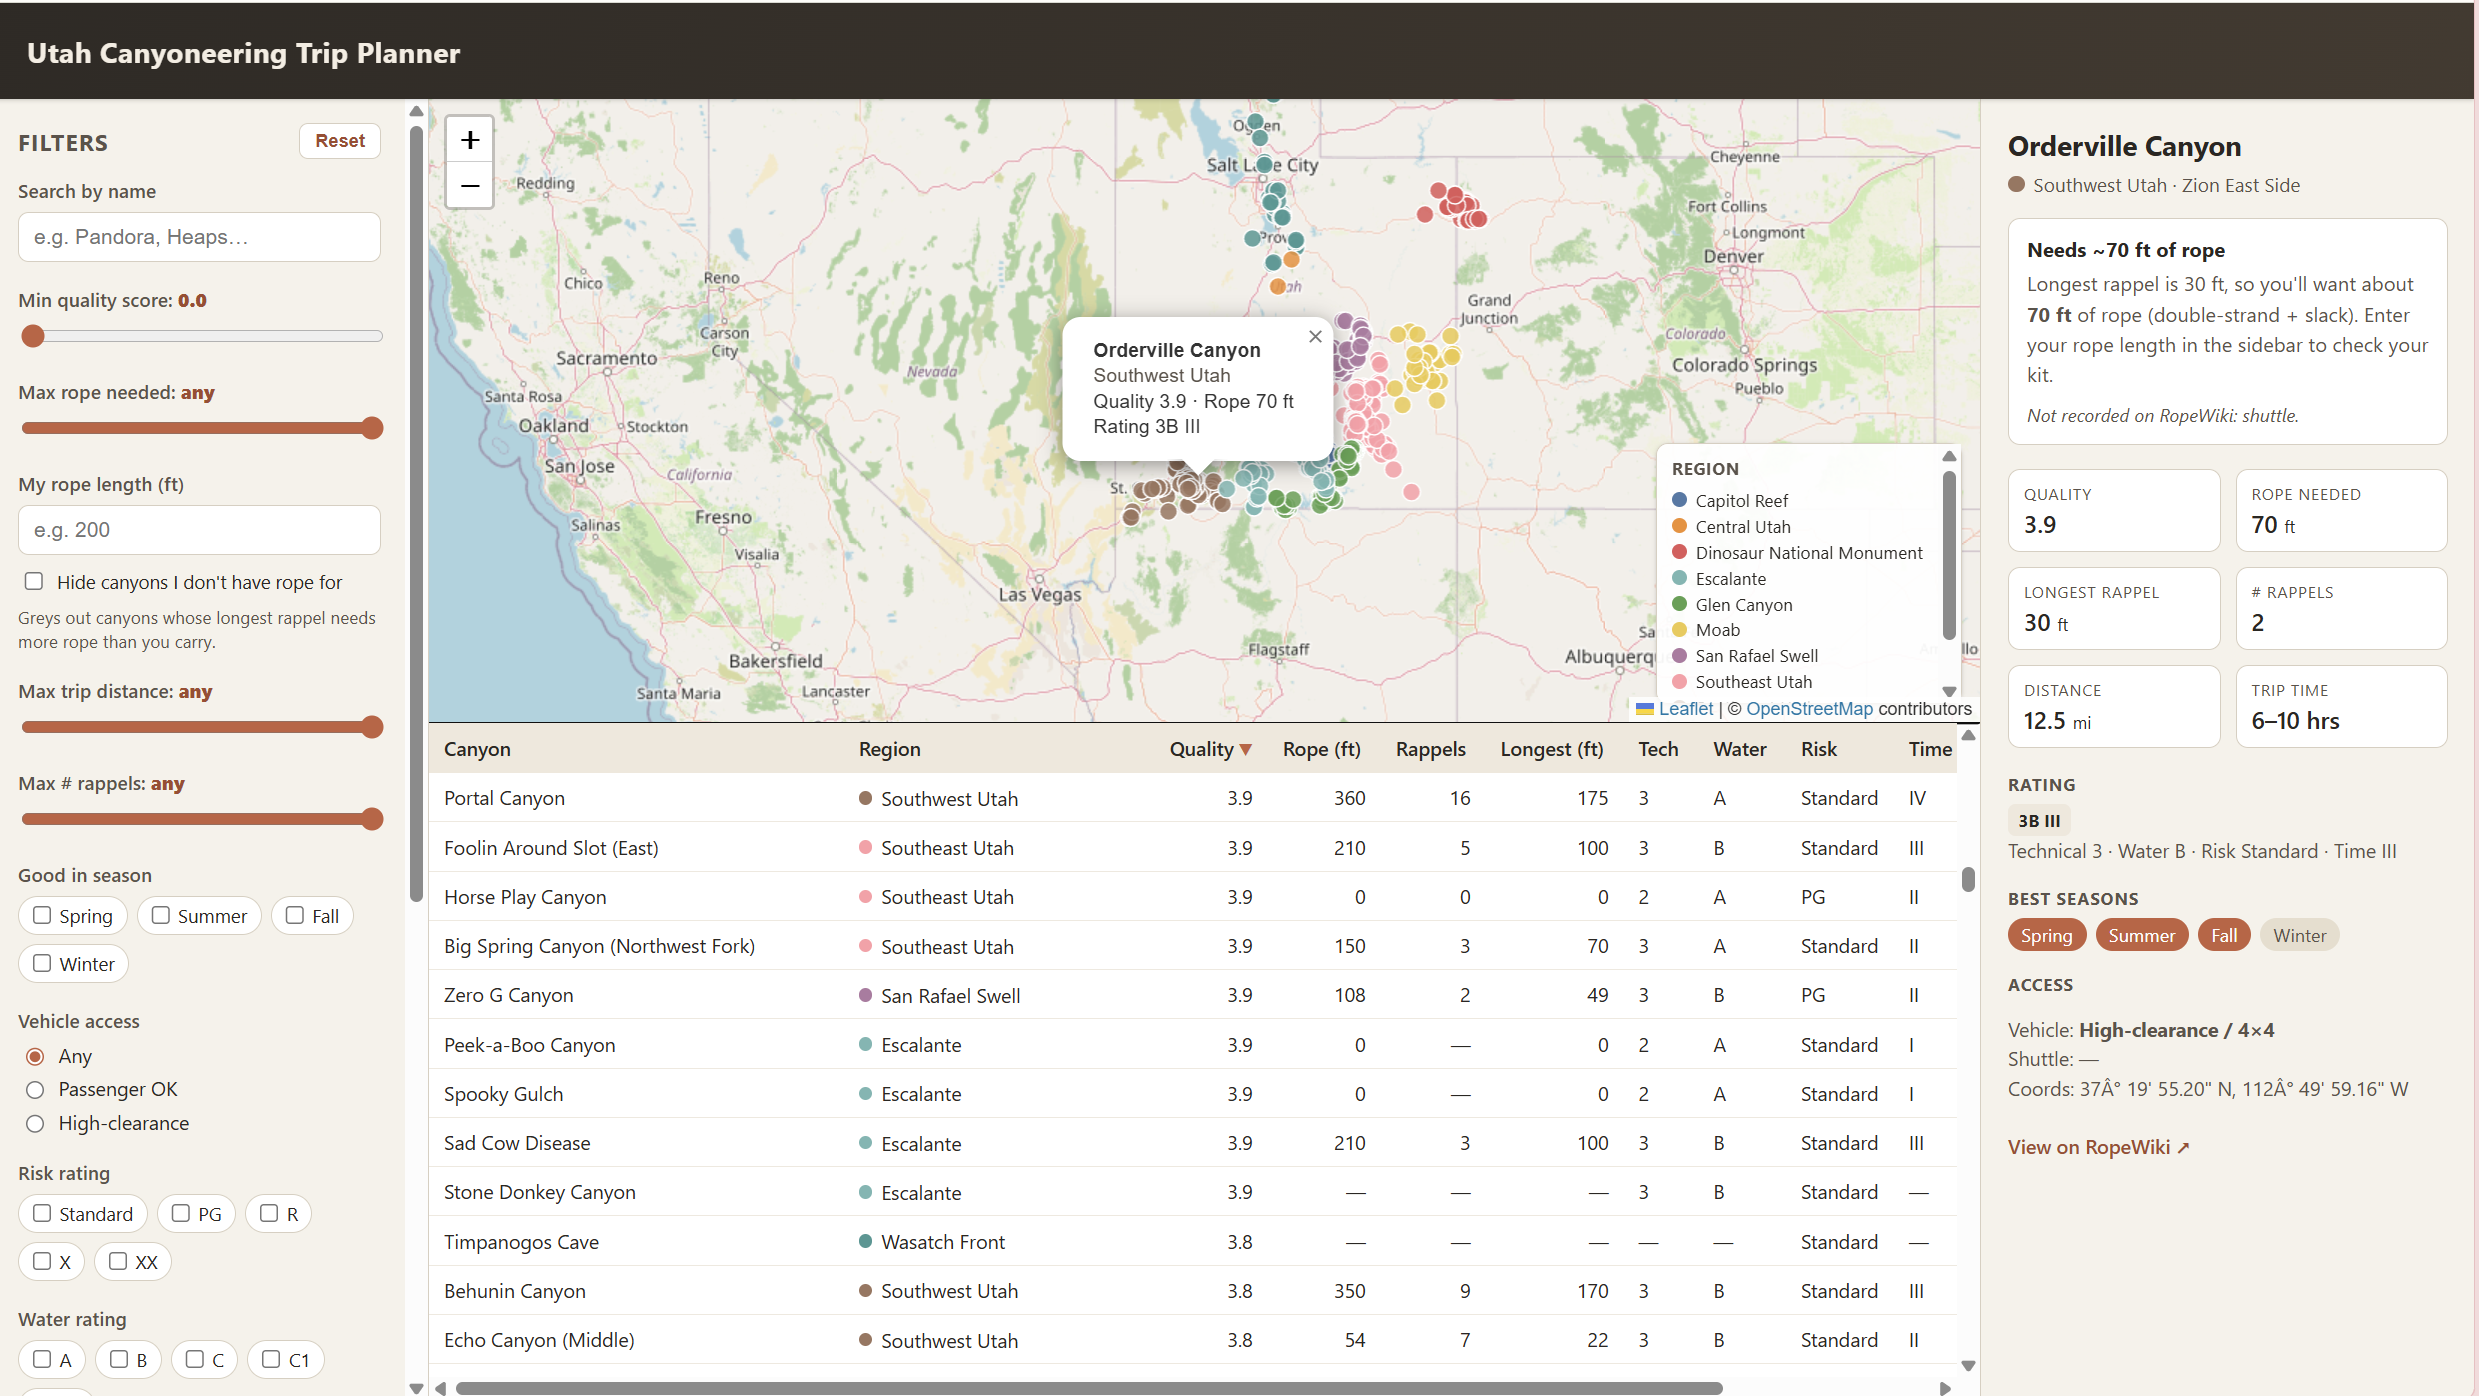

The page's visual inventory and layout, read from the dashboard file:
{"tool":"tableau","page":{"name":"Trip Planning","canvas":[1000,1000],"units":"permille","ordinal":6},"visuals":[{"type":"filter","title":"Hikes","param":"[federated.0wo2gay1290drp1gr1q7017bb03z].[none:Calculation_0644098751868929:nk]","box":[6.5,11.7,136.7,74.1]},{"type":"filter","title":"Hikes","param":"[federated.0wo2gay1290drp1gr1q7017bb03z].[none:technical_class:nk]","box":[143.2,11.7,136.7,74.1]},{"type":"filter","title":"Hikes","param":"[federated.0wo2gay1290drp1gr1q7017bb03z].[none:vehicle_required:nk]","box":[279.9,11.7,136.7,74.1]},{"type":"filter","title":"Hikes","param":"[federated.0wo2gay1290drp1gr1q7017bb03z].[none:time_commitment:nk]","box":[416.6,11.7,136.7,74.1]},{"type":"filter","title":"Hikes","param":"[federated.0wo2gay1290drp1gr1q7017bb03z].[none:risk_rating:nk]","box":[733.1,11.7,130.2,74.1]},{"type":"filter","title":"Hikes","param":"[federated.0wo2gay1290drp1gr1q7017bb03z].[none:water_rating:nk]","box":[863.3,11.7,130.2,74.1]},{"type":"worksheet","title":"Hikes","mark":"Automatic","rows":["name"],"box":[6.5,85.8,493.5,902.6]},{"type":"worksheet","title":"Map","mark":"Automatic","rows":["latitude"],"cols":["longitude"],"box":[500,85.8,493.5,902.6]},{"type":"worksheet","title":"Regions","mark":"Automatic","rows":["region"],"box":[826.7,93,163.6,332.9]}]}

Visuals, with their boxes on the dashboard's canvas, which has no fixed pixel size, in thousandths of its width and height (x1, y1, x2, y2). These are canvas units, not pixel positions in the 2479x1396 screenshot, which may show the page scaled, cropped or inside an application window:
"Hikes" filter: Rect(6, 12, 143, 86)
"Hikes" filter: Rect(143, 12, 280, 86)
"Hikes" filter: Rect(280, 12, 417, 86)
"Hikes" filter: Rect(417, 12, 553, 86)
"Hikes" filter: Rect(733, 12, 863, 86)
"Hikes" filter: Rect(863, 12, 994, 86)
"Hikes" worksheet: Rect(6, 86, 500, 988)
"Map" worksheet: Rect(500, 86, 994, 988)
"Regions" worksheet: Rect(827, 93, 990, 426)
